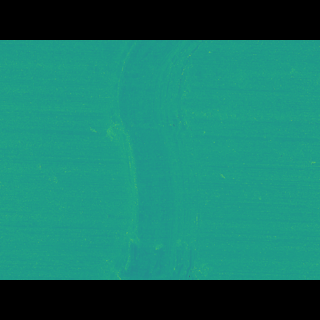Loch: (92, 69, 218, 251)
